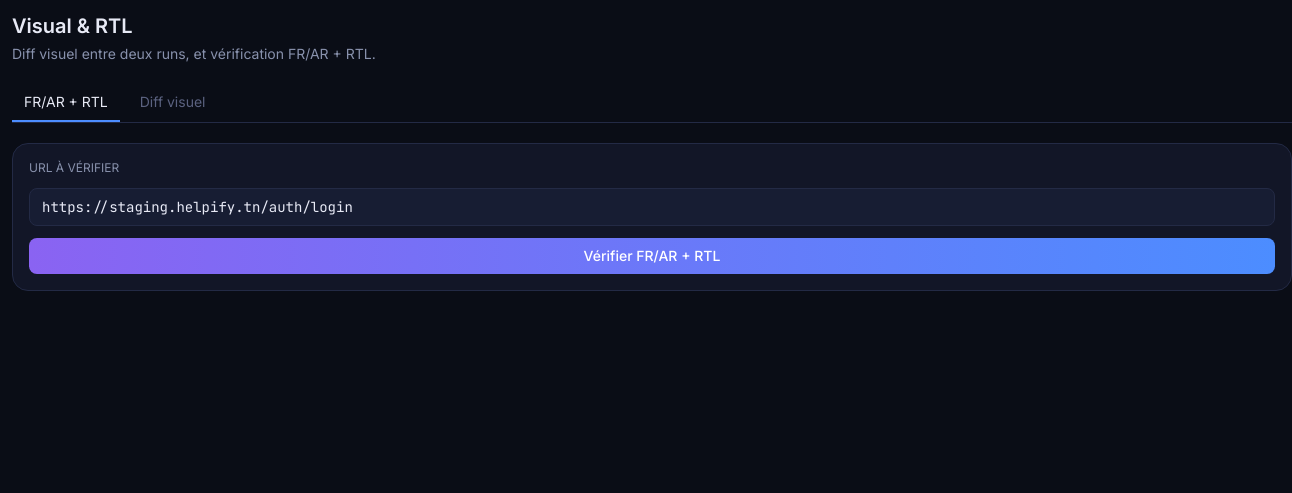
Test: Visual/RTL : onglet FR/AR + RTL › vérifie l'URL saisie et montre un résultat sans problème
This screenshot has width=1292, height=493.
Replace the text in the field showing "staging.helpify.tn" with "https://exemple.fr" at (652, 207), box x1=29 y1=188 x2=1275 y2=226
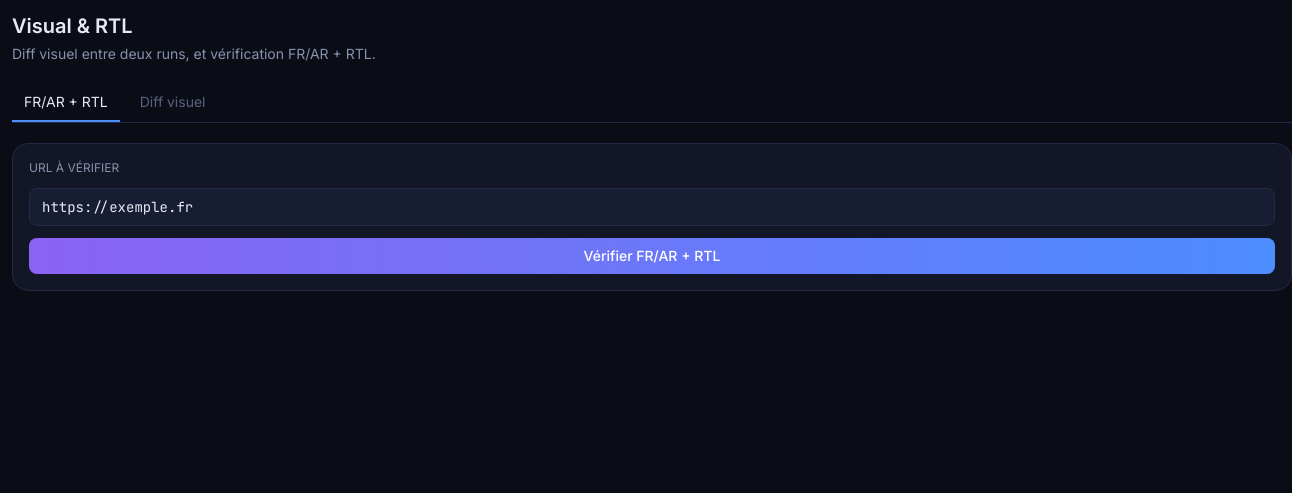
Click the button "Vérifier FR/AR + RTL" at (652, 256), box x1=29 y1=238 x2=1275 y2=274
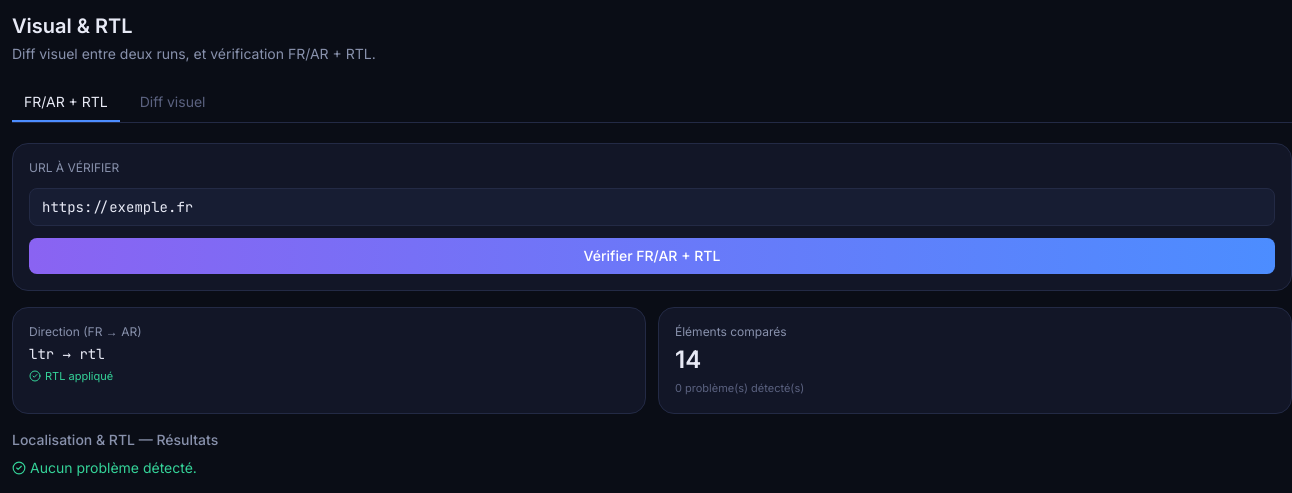
Expected: the text "RTL appliqué" is shown, x1=29 y1=369 x2=113 y2=383
Expected: the text "14" is shown, x1=675 y1=345 x2=701 y2=374
Expected: the text "Aucun problème détecté." is shown, x1=12 y1=458 x2=197 y2=476
